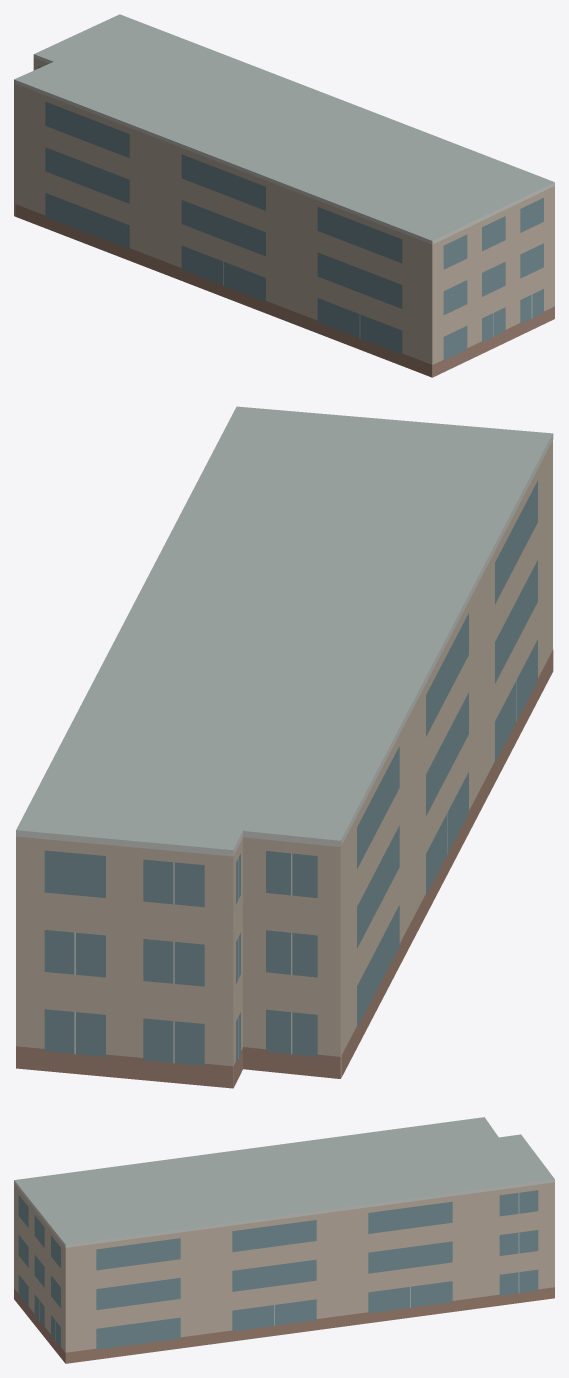
File: survey-upis-32458107.glb
3 views of the same model, one above another, from view 1: azimuth 30°, elevation 25°; view 2: azimuth 150°, elevation 25°; view 3: azimuth 270°, elevation 25° (orthographic). The views are drawn at different scales.
Visible parts, largest first — view 1: survey-upis-32458107.tmp; view 2: survey-upis-32458107.tmp; view 3: survey-upis-32458107.tmp.
Boxes of the visible parts, left/top/right/bottom form: survey-upis-32458107.tmp: left=14, top=14, right=554, bottom=377; survey-upis-32458107.tmp: left=16, top=406, right=553, bottom=1088; survey-upis-32458107.tmp: left=14, top=1117, right=554, bottom=1363.
Bounding box in the file's own units: 21.04 × 9.15 × 37.66.
